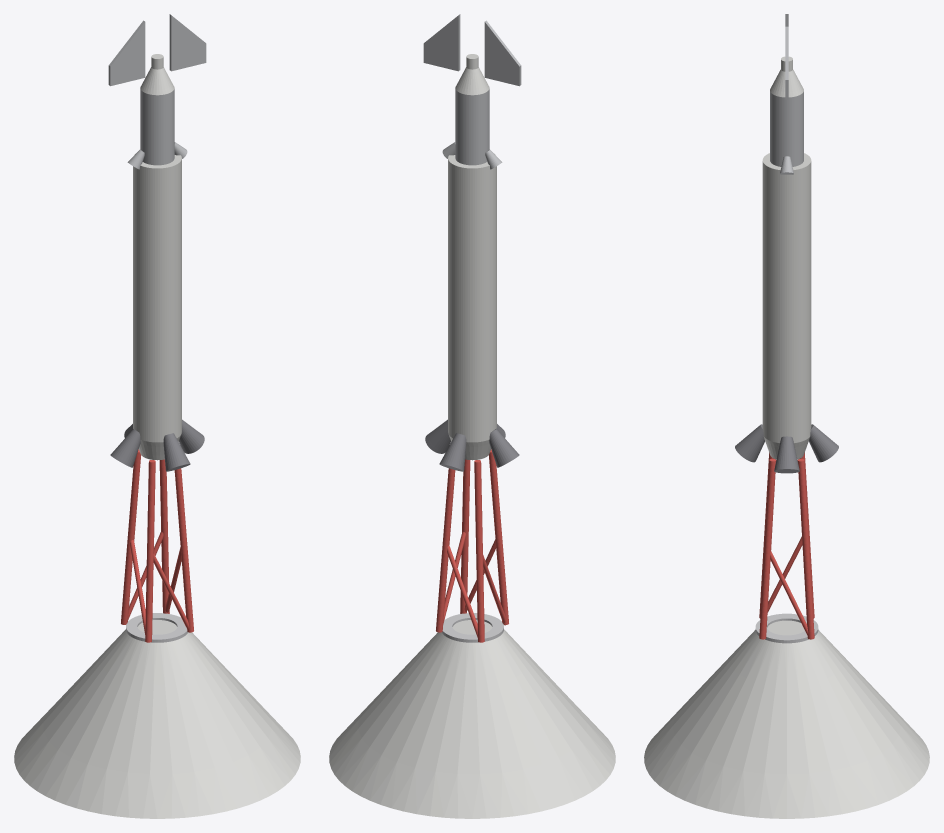
The model's file is prop24_launch_escape_tower_xl_canards.glb.
3 views of the same model, side by side, from view 1: azimuth 30°, elevation 25°; view 2: azimuth 150°, elevation 25°; view 3: azimuth 270°, elevation 25° (orthographic).
Visible parts, largest first — view 1: boost_cover, abort_motor, tower_truss, jettison_motor, abort_nozzles, canard_2, canard_1, docking_ring, nose; view 2: boost_cover, abort_motor, tower_truss, jettison_motor, abort_nozzles, canard_2, canard_1, docking_ring, nose; view 3: boost_cover, abort_motor, tower_truss, jettison_motor, abort_nozzles, docking_ring, nose.
Boxes of the visible parts, <box> form: boost_cover: <box>14,620,300,818</box>; abort_motor: <box>133,153,181,460</box>; tower_truss: <box>121,449,193,642</box>; jettison_motor: <box>127,89,187,169</box>; abort_nozzles: <box>110,419,204,471</box>; canard_2: <box>108,20,145,86</box>; canard_1: <box>169,14,206,71</box>; docking_ring: <box>126,613,187,642</box>; nose: <box>140,54,174,95</box>; boost_cover: <box>329,620,615,818</box>; abort_motor: <box>448,153,496,460</box>; tower_truss: <box>436,449,508,642</box>; jettison_motor: <box>442,89,502,169</box>; abort_nozzles: <box>425,419,519,471</box>; canard_2: <box>484,20,521,86</box>; canard_1: <box>423,14,460,71</box>; docking_ring: <box>442,613,503,642</box>; nose: <box>455,54,489,95</box>; boost_cover: <box>644,620,929,818</box>; abort_motor: <box>762,153,811,459</box>; tower_truss: <box>759,452,814,639</box>; jettison_motor: <box>770,91,803,174</box>; abort_nozzles: <box>735,424,838,473</box>; docking_ring: <box>755,613,818,643</box>; nose: <box>770,56,803,97</box>.
Size of the model in its own units: 5 by 14.24 by 5.
